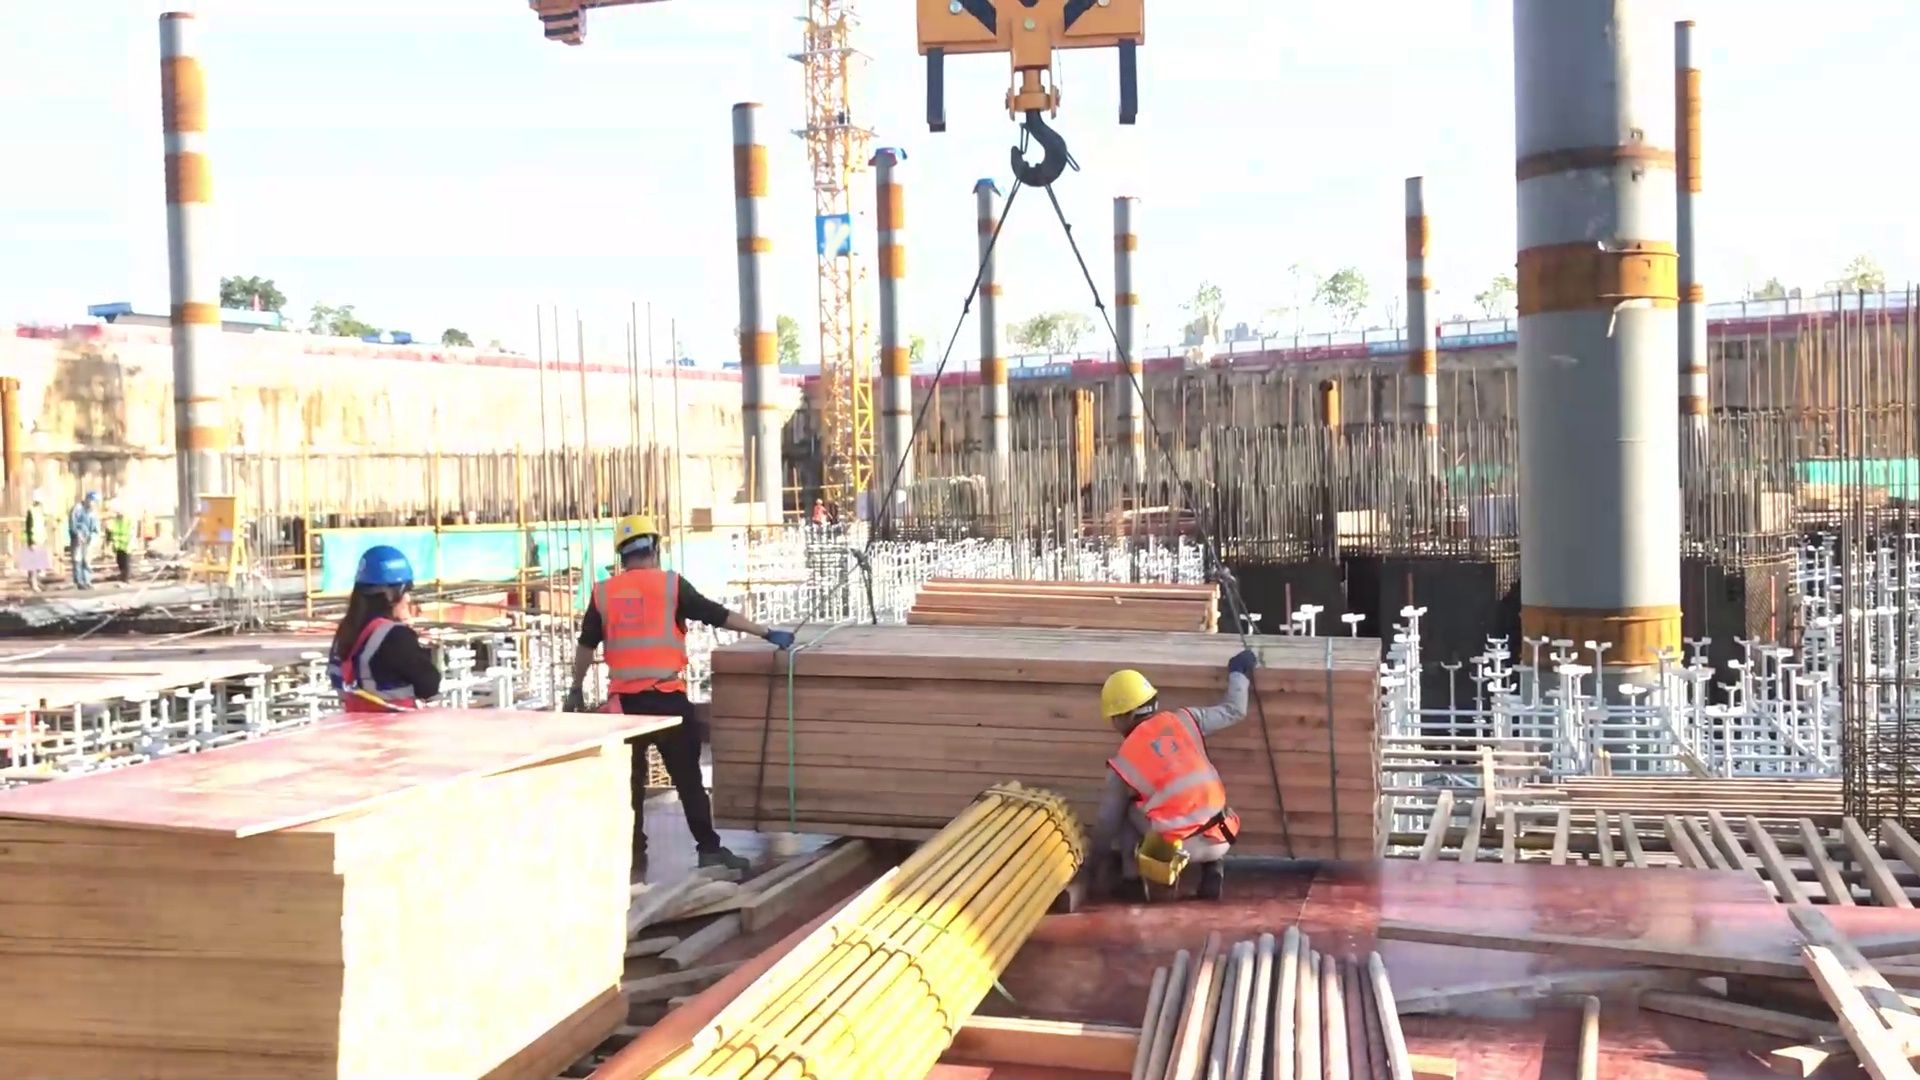board: (1, 712, 698, 1064)
ebox: (183, 487, 248, 583)
helmet: (343, 529, 425, 596), (1097, 661, 1161, 715), (602, 507, 666, 538)
hook: (558, 488, 813, 911), (1067, 633, 1290, 899), (902, 1, 1152, 191)
person: (331, 545, 450, 723), (59, 481, 108, 581)
vest: (1098, 708, 1240, 850), (579, 570, 700, 706), (325, 610, 421, 719), (65, 501, 109, 549)
wood: (692, 608, 1397, 864)
